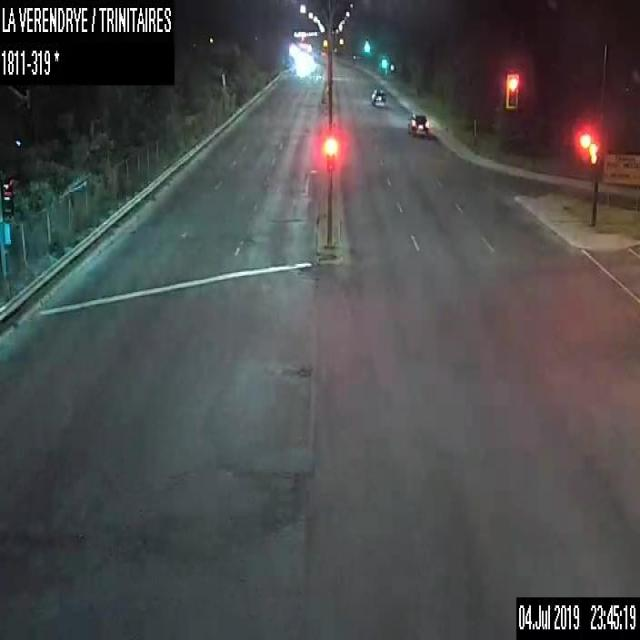vehicle: (407, 112, 428, 137), (370, 88, 385, 105)
